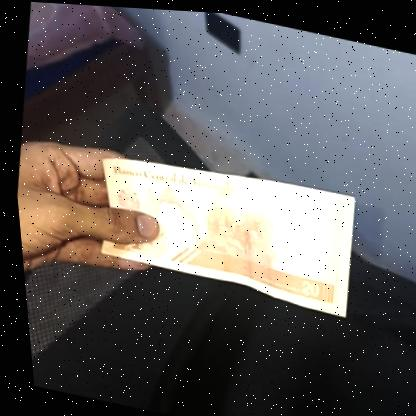twenty-back-vef: (84, 138, 361, 312)
